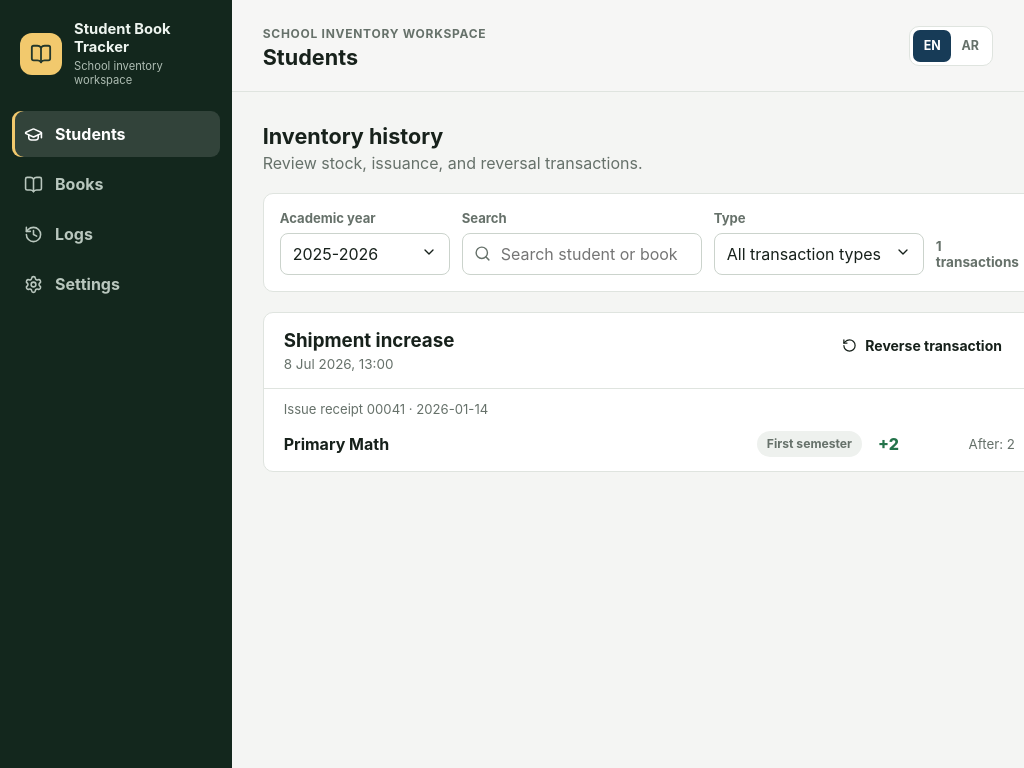
Test case: LogsScreen › shows complete transaction detail and confirms reversal
Expected: the text "Primary Math" is shown, [284,434,389,454]
Expected: the text "+2" is shown, [878,434,899,454]
Click the button "Reverse transaction" at coordinates (922, 346), box [829,329,1015,363]
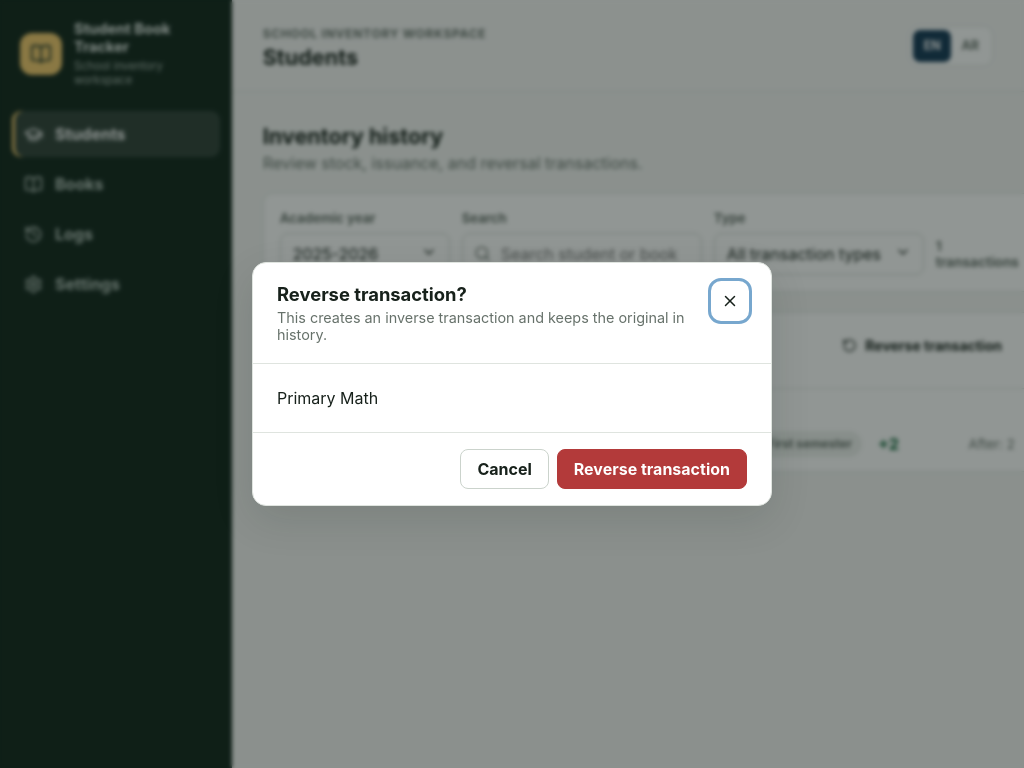
Click the button "Reverse transaction" at coordinates (652, 469), box [557,449,747,489]
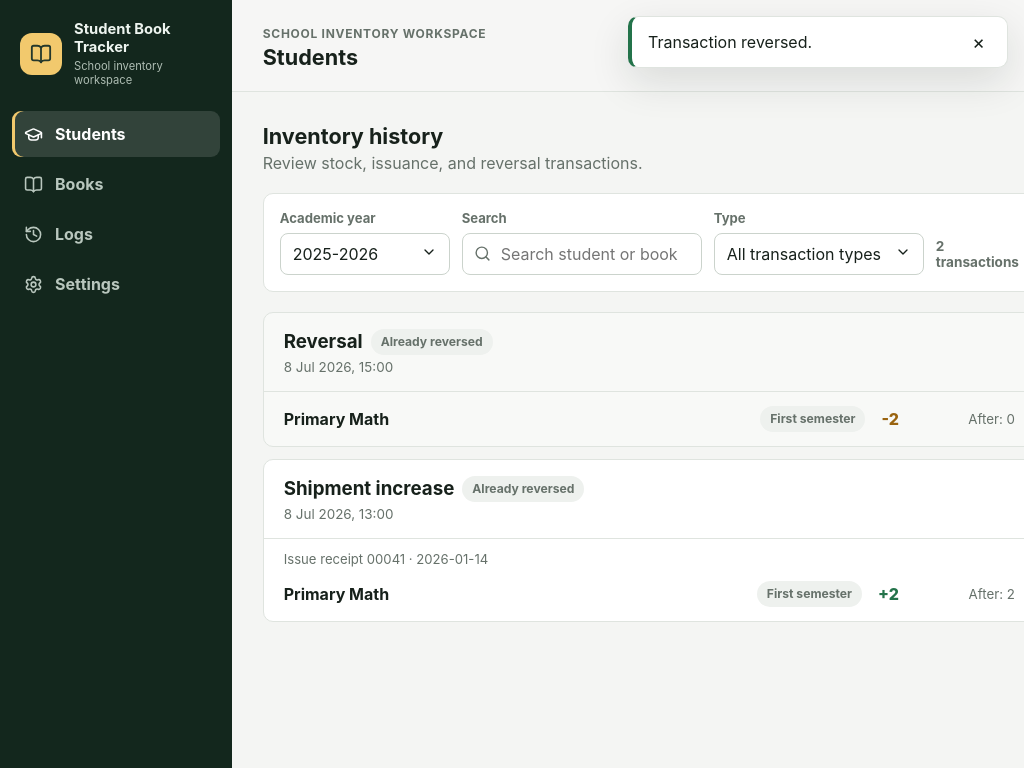
Expected: the 1st text "Already reversed" is shown, [371,329,493,355]
